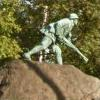Statue: (22, 10, 93, 64)
